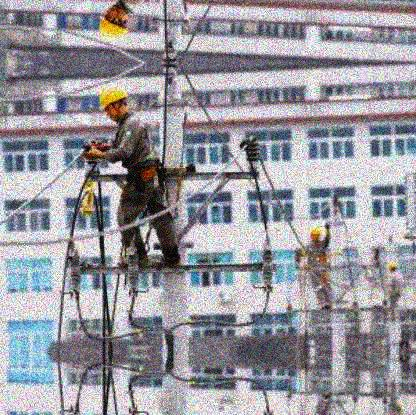helmet: (99, 5, 129, 44), (100, 85, 128, 121), (311, 228, 320, 242), (389, 262, 397, 273)
